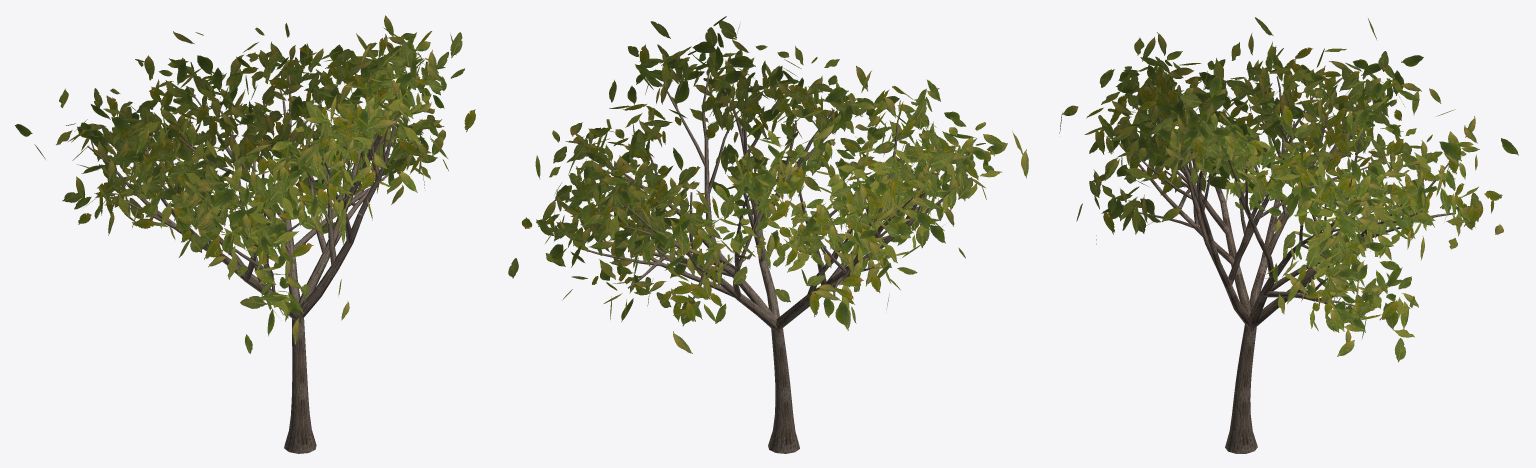
Rendered from Oak_B.gltf.
The picture shows the model from 3 angles, left to right: view 1: azimuth 30°, elevation 25°; view 2: azimuth 150°, elevation 25°; view 3: azimuth 270°, elevation 25°; orthographic projection.
Visible parts, largest first — view 1: Oak_B; view 2: Oak_B; view 3: Oak_B.
Boxes of the visible parts, left/top/right/bottom form: Oak_B: left=15, top=15, right=475, bottom=453; Oak_B: left=508, top=16, right=1028, bottom=453; Oak_B: left=1059, top=17, right=1518, bottom=453.
Size of the model in its own units: 15.25 by 14.45 by 14.88.
2 materials, 2 textured.
